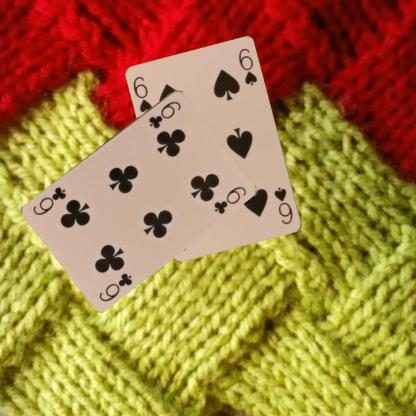6c: (97, 270, 134, 303), (146, 98, 182, 130)
6s: (130, 74, 154, 115), (272, 184, 294, 226)
